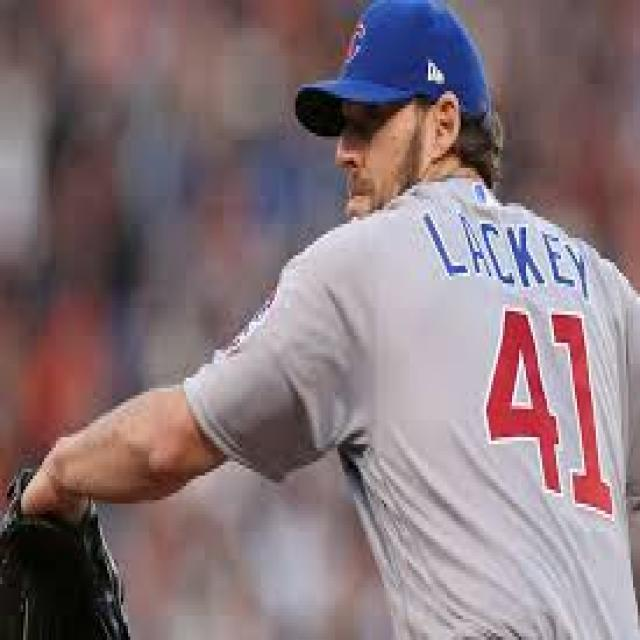3_gorra: (290, 0, 493, 136)
